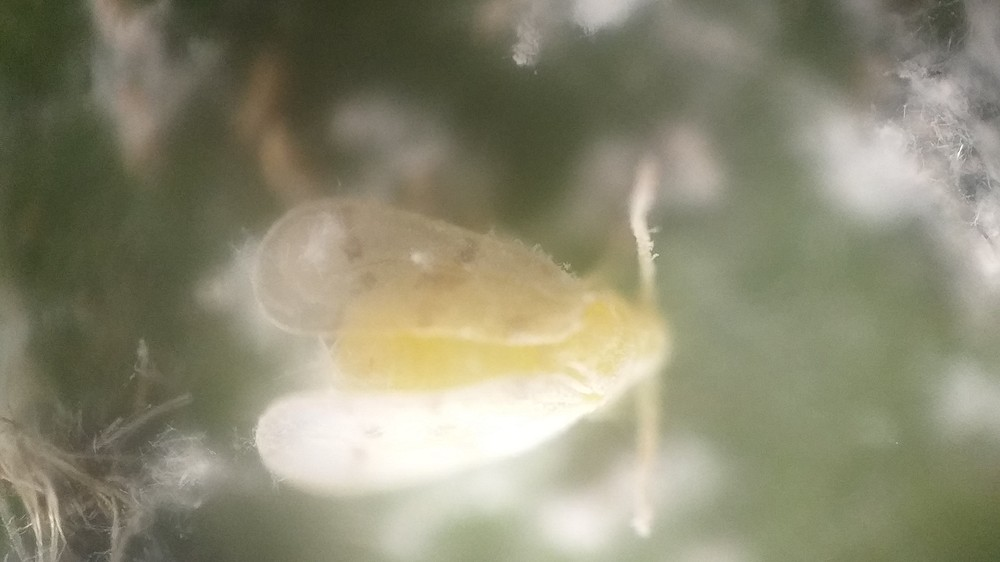Mosca Blanca: (228, 151, 699, 542)
